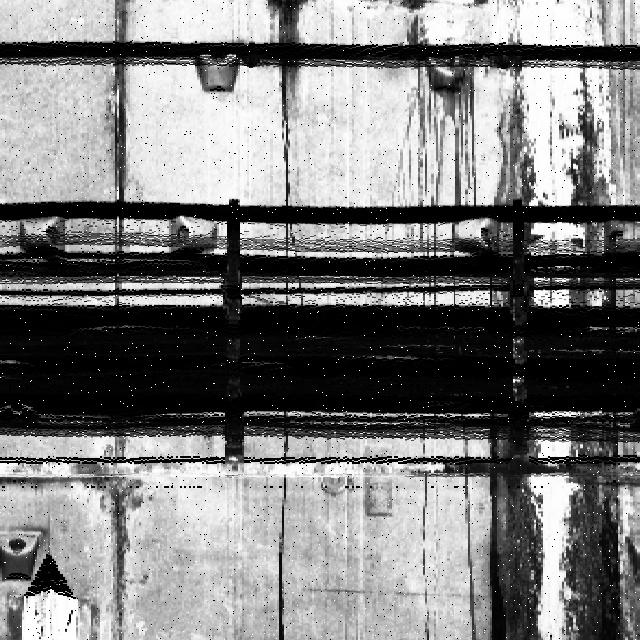leakage: (556, 75, 629, 640), (489, 44, 544, 640), (389, 60, 478, 263), (264, 1, 309, 122)
